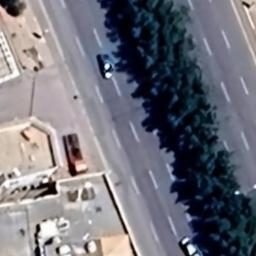sedan: (176, 234, 200, 256)
unknown: (96, 50, 116, 81)
